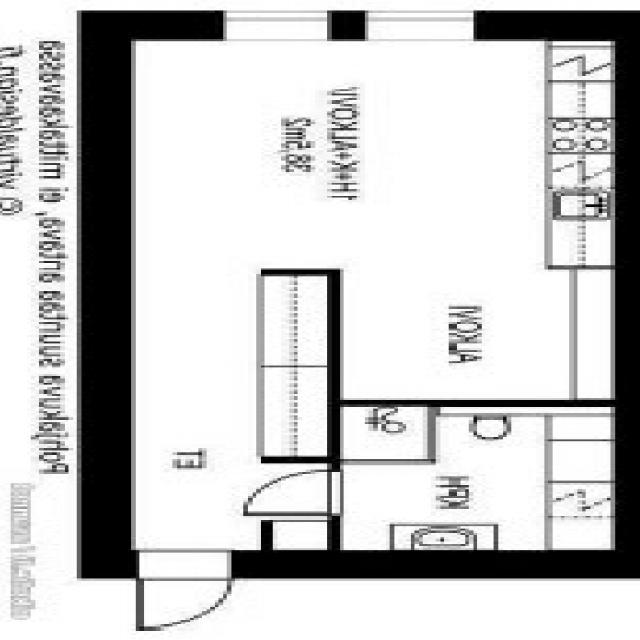door: (137, 550, 231, 629), (246, 470, 341, 512)
